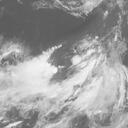cyclone: (17, 56, 88, 118)
